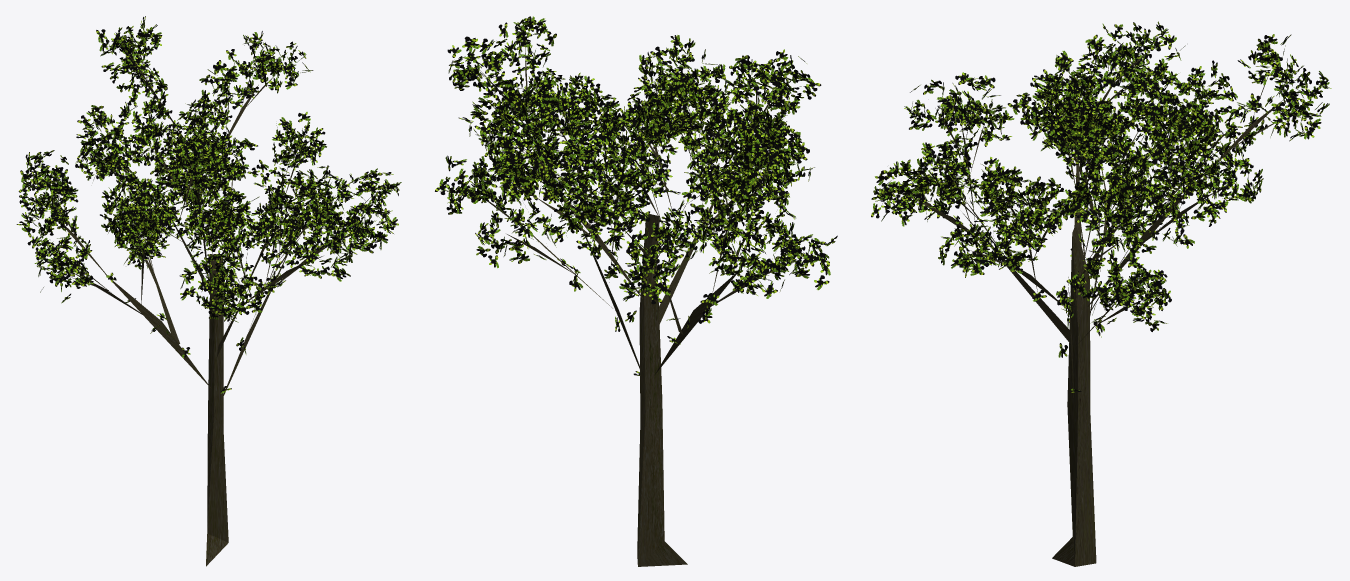
File: emergent_fig_v03_LOD2.fbx
3 renders of one model, left to right at view 1: azimuth 30°, elevation 25°; view 2: azimuth 150°, elevation 25°; view 3: azimuth 270°, elevation 25°, orthographic. The views are drawn at different scales.
Visible parts, largest first — view 1: emergent_fig_v03_LOD2; view 2: emergent_fig_v03_LOD2; view 3: emergent_fig_v03_LOD2.
Boxes of the visible parts, x1,y1,x2,y2 form: emergent_fig_v03_LOD2: [16, 16, 401, 566]; emergent_fig_v03_LOD2: [435, 16, 837, 566]; emergent_fig_v03_LOD2: [871, 21, 1331, 566].
Bounding box in the file's own units: 3569 × 3930 × 5042.
2 materials, 2 textured.
